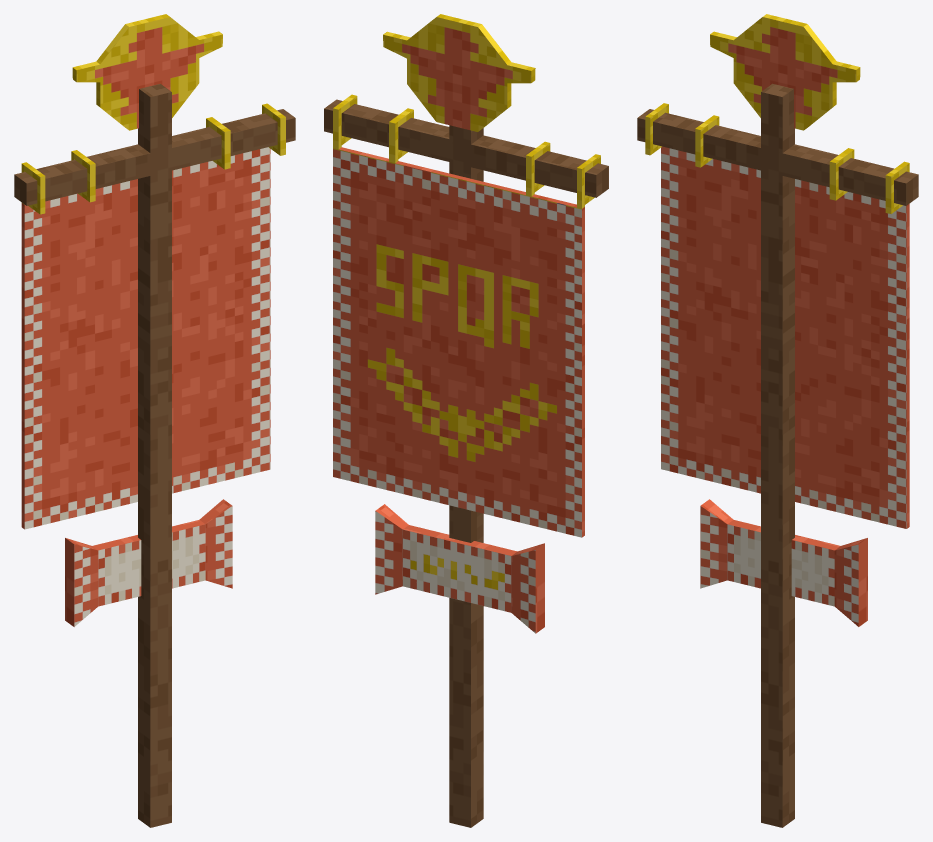
File: EstandarteRomanoVer2Egipto.fbx
3 renders of one model, left to right at view 1: azimuth 30°, elevation 25°; view 2: azimuth 150°, elevation 25°; view 3: azimuth 330°, elevation 25°, orthographic.
Parts seen in each view (by area): view 1: Estandarte; view 2: Estandarte; view 3: Estandarte.
Part boxes in pixels (x1,y1,x2,y2): Estandarte: [14, 14, 295, 827]; Estandarte: [324, 14, 608, 827]; Estandarte: [637, 14, 918, 827].
Bounding box in the file's own units: 5.01 × 0.6351 × 14.17.
Materials: 1 (1 with a texture image).
